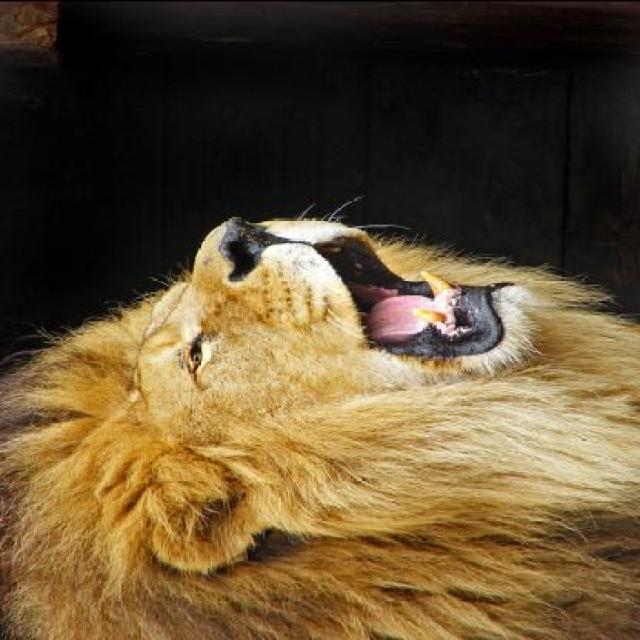Lion: (19, 161, 638, 634)
